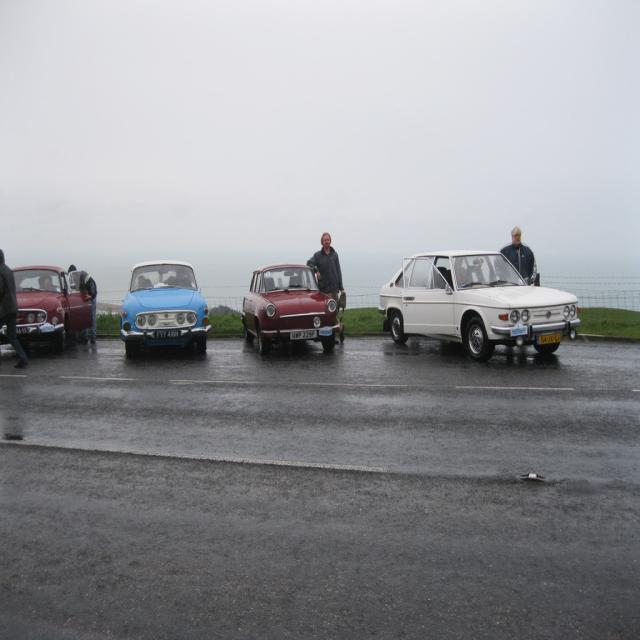car: (376, 241, 583, 363), (120, 259, 212, 354)
